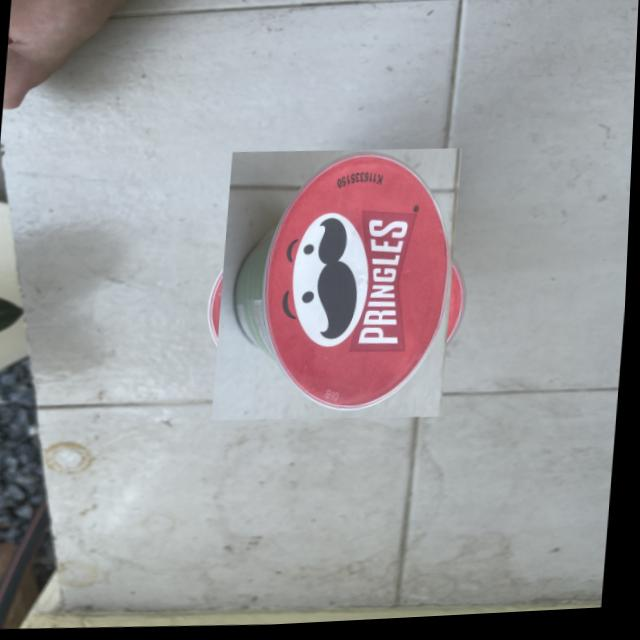a pringles: (205, 154, 472, 422)
